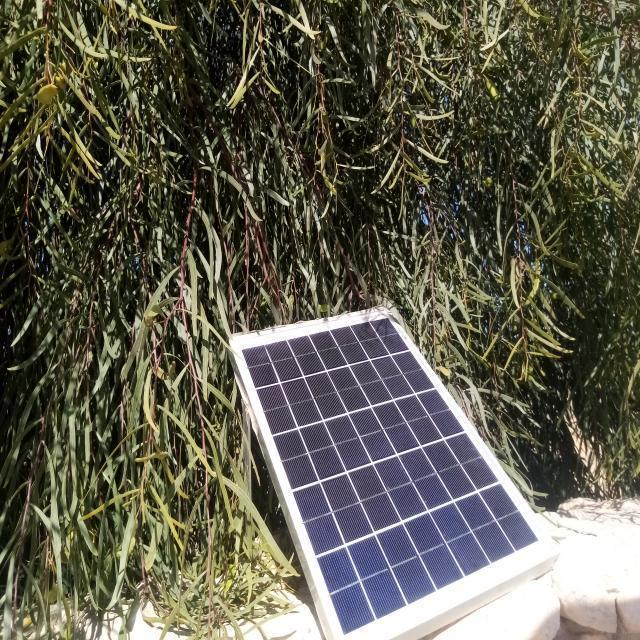Normal Solar Panel: (232, 309, 556, 640)
